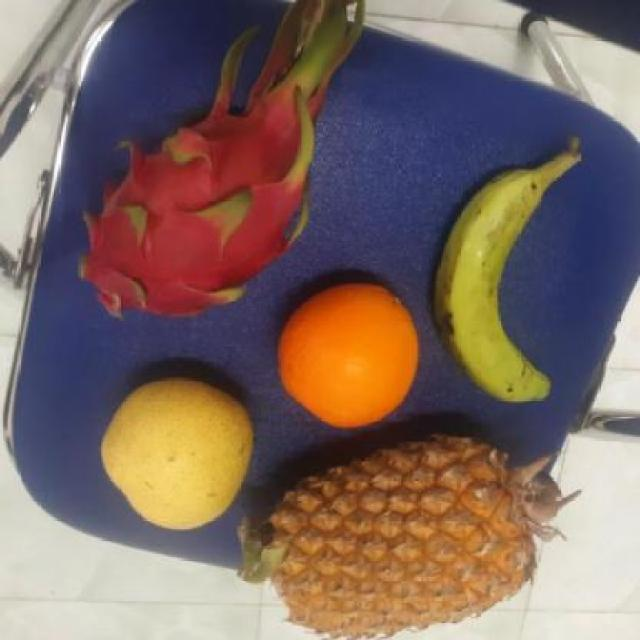banana: (427, 164, 564, 401)
dragon fruit: (78, 96, 324, 316)
guava: (94, 376, 255, 527)
pear: (272, 282, 423, 426)
pineapple: (243, 432, 542, 639)
